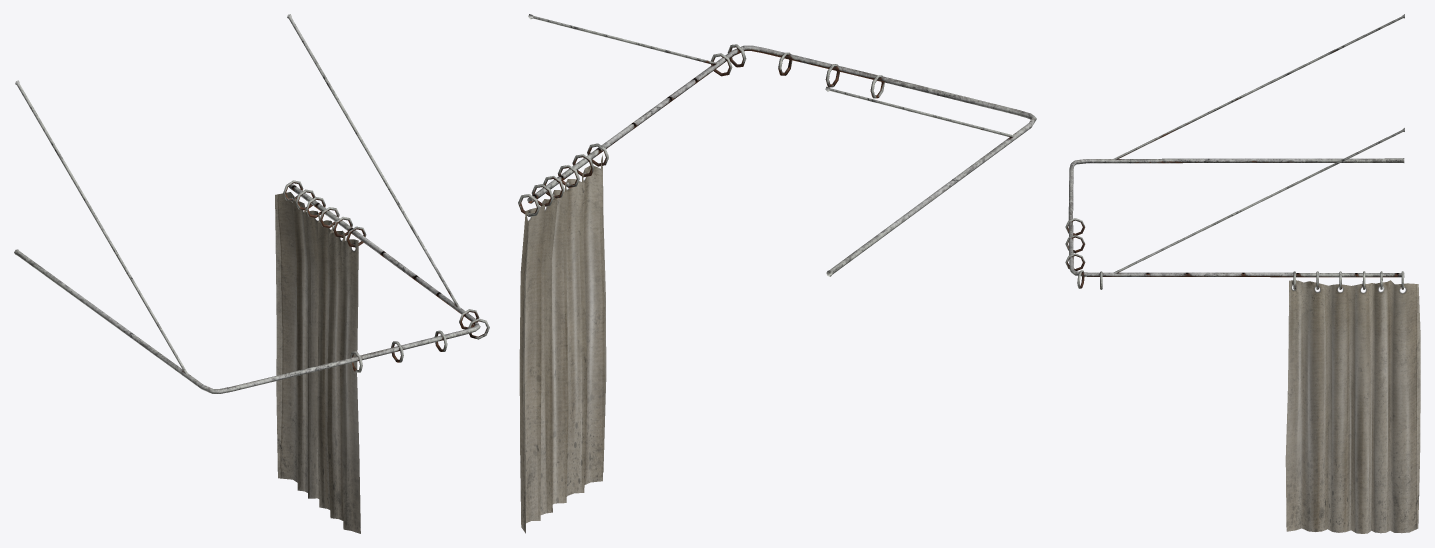
Rendered from curtain_2.glb.
The picture shows the model from 3 angles, left to right: view 1: azimuth 30°, elevation 25°; view 2: azimuth 150°, elevation 25°; view 3: azimuth 270°, elevation 25°; orthographic projection. The views are drawn at different scales.
Parts seen in each view (by area): view 1: Curtain; view 2: Curtain; view 3: Curtain.
Boxes of the visible parts, x1,y1,x2,y2 form: Curtain: (14,14,489,533); Curtain: (518,14,1036,533); Curtain: (1065,14,1420,533).
Size of the model in its own units: 5.2 by 8.11 by 6.48.
1 material, 1 textured.
